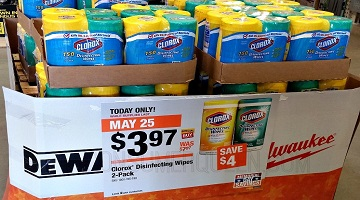Wipes: (42, 13, 84, 86), (122, 12, 163, 85), (86, 12, 124, 85), (218, 14, 259, 80), (161, 10, 197, 82), (287, 12, 322, 80), (199, 99, 236, 158), (236, 95, 273, 152), (322, 13, 351, 81), (257, 13, 286, 80), (203, 4, 228, 65), (193, 1, 220, 57), (155, 6, 192, 28), (107, 1, 147, 18), (83, 3, 115, 23), (297, 5, 337, 20), (42, 4, 81, 19), (255, 1, 294, 16), (255, 80, 291, 96), (153, 83, 190, 97), (221, 82, 256, 96), (81, 86, 121, 98), (289, 78, 320, 92), (318, 78, 351, 91), (121, 84, 154, 95), (185, 1, 210, 15), (45, 89, 81, 98), (150, 2, 170, 13)
